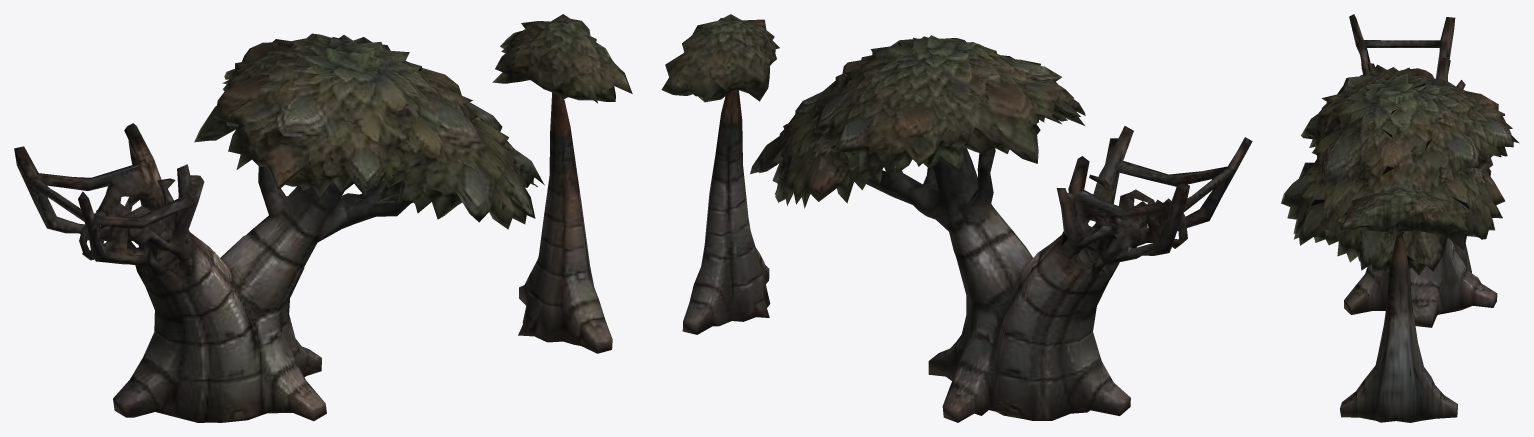
Rendered from prop_tree_c.glb.
The picture shows the model from 3 angles, left to right: view 1: azimuth 30°, elevation 25°; view 2: azimuth 150°, elevation 25°; view 3: azimuth 270°, elevation 25°; orthographic projection. The views are drawn at different scales.
Visible parts, largest first — view 1: Mesh_0; view 2: Mesh_0; view 3: Mesh_0.
Boxes of the visible parts, x1,y1,x2,y2 form: Mesh_0: [14, 14, 632, 422]; Mesh_0: [661, 14, 1252, 422]; Mesh_0: [1281, 14, 1519, 422].
Bounding box in the file's own units: 1.98 × 1.13 × 0.9899.
1 material, 1 textured.
